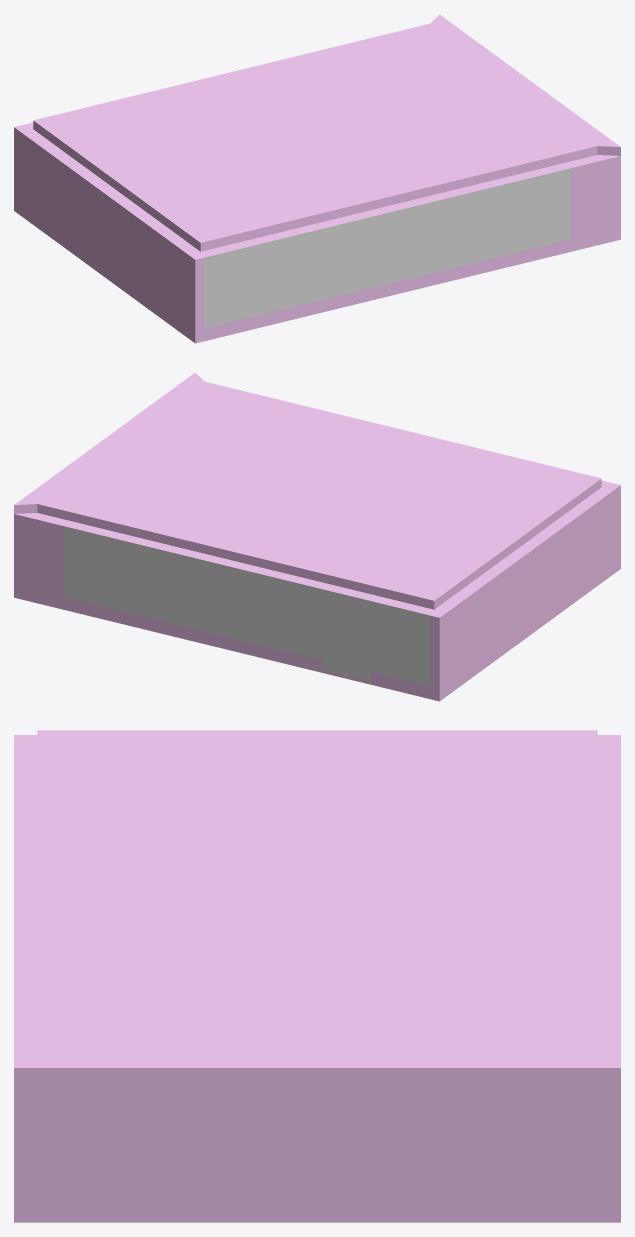
The model's file is estructura.fbx.
3 renders of one model, top to bottom at view 1: azimuth 30°, elevation 25°; view 2: azimuth 150°, elevation 25°; view 3: azimuth 270°, elevation 25°, orthographic. The views are drawn at different scales.
Parts seen in each view (by area): view 1: Cubo; view 2: Cubo; view 3: Cubo.
Boxes of the visible parts, x1,y1,x2,y2 form: Cubo: [14, 14, 620, 343]; Cubo: [14, 372, 620, 701]; Cubo: [14, 730, 620, 1222].
Size of the model in its own units: 3738 by 776 by 2757.
